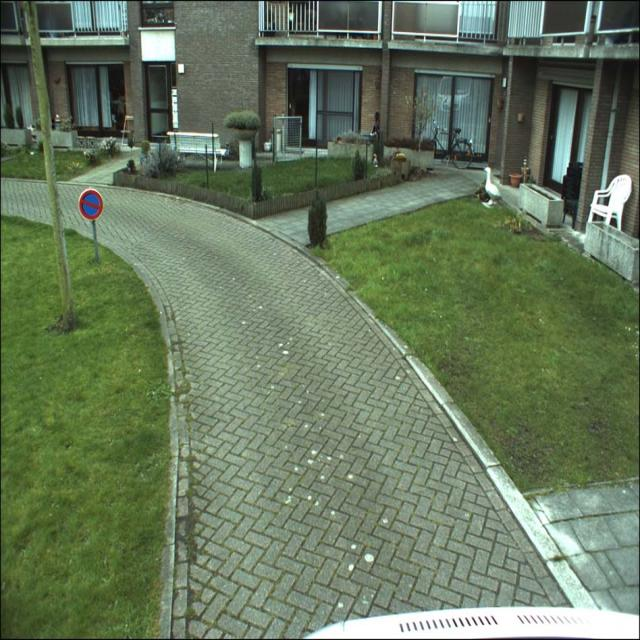parkyasak: (78, 188, 104, 222)
